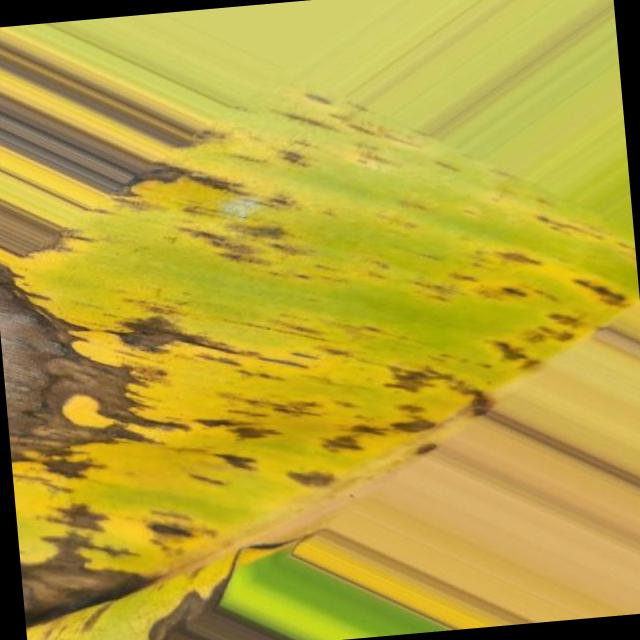Banana_Black_Sigatoka: (114, 186, 454, 492), (0, 248, 129, 640), (448, 166, 611, 367), (198, 78, 330, 190)
